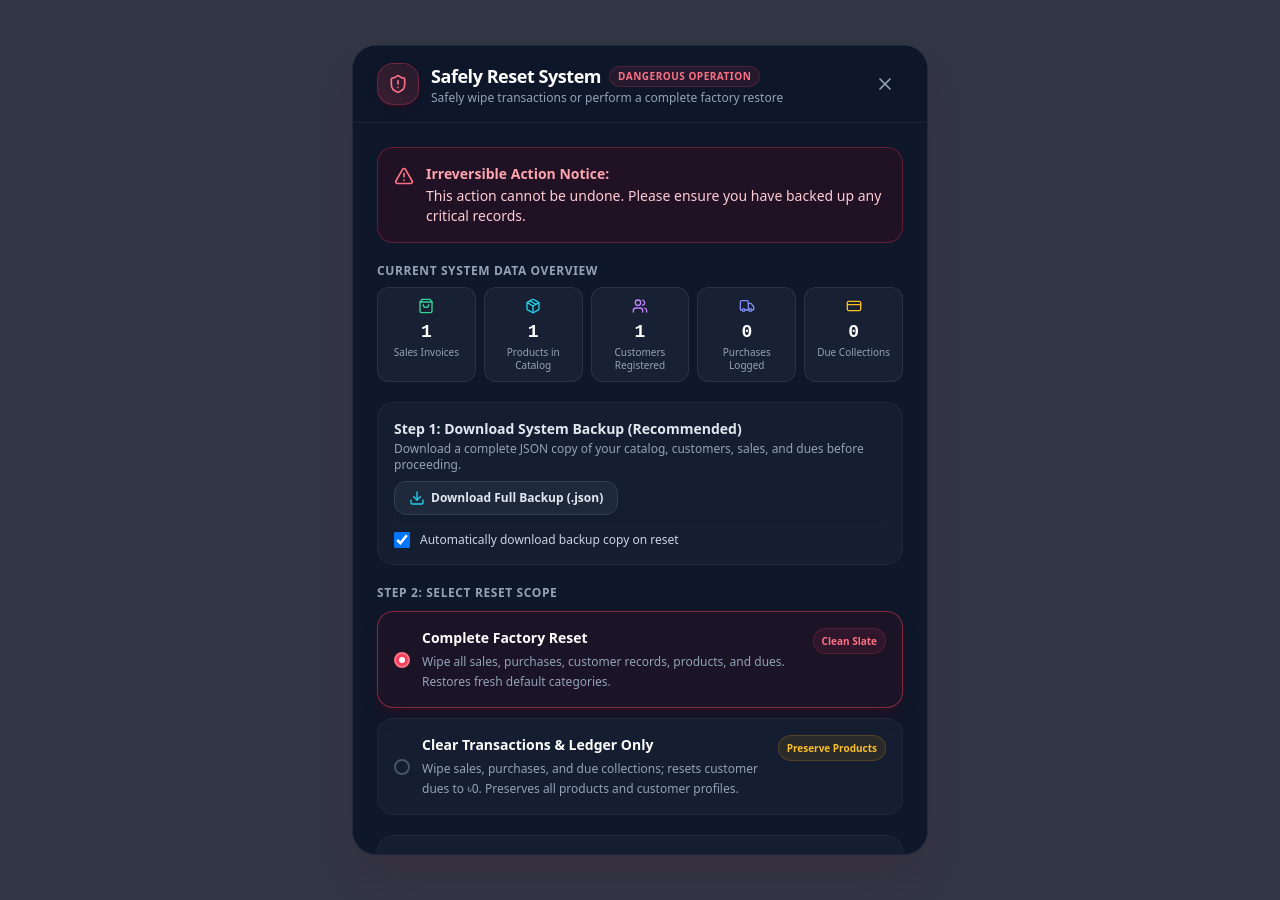
Test: System Reset UI & Safety Modal › displays accurate system counts and handles backup download in SystemResetModal
expect the 1st text "1" is shown: met, box [421,322,432,342]
// Click Download Backup button
Click the button "Download Full Backup (.json)". click: (506, 498)
box: [394,481,618,515]
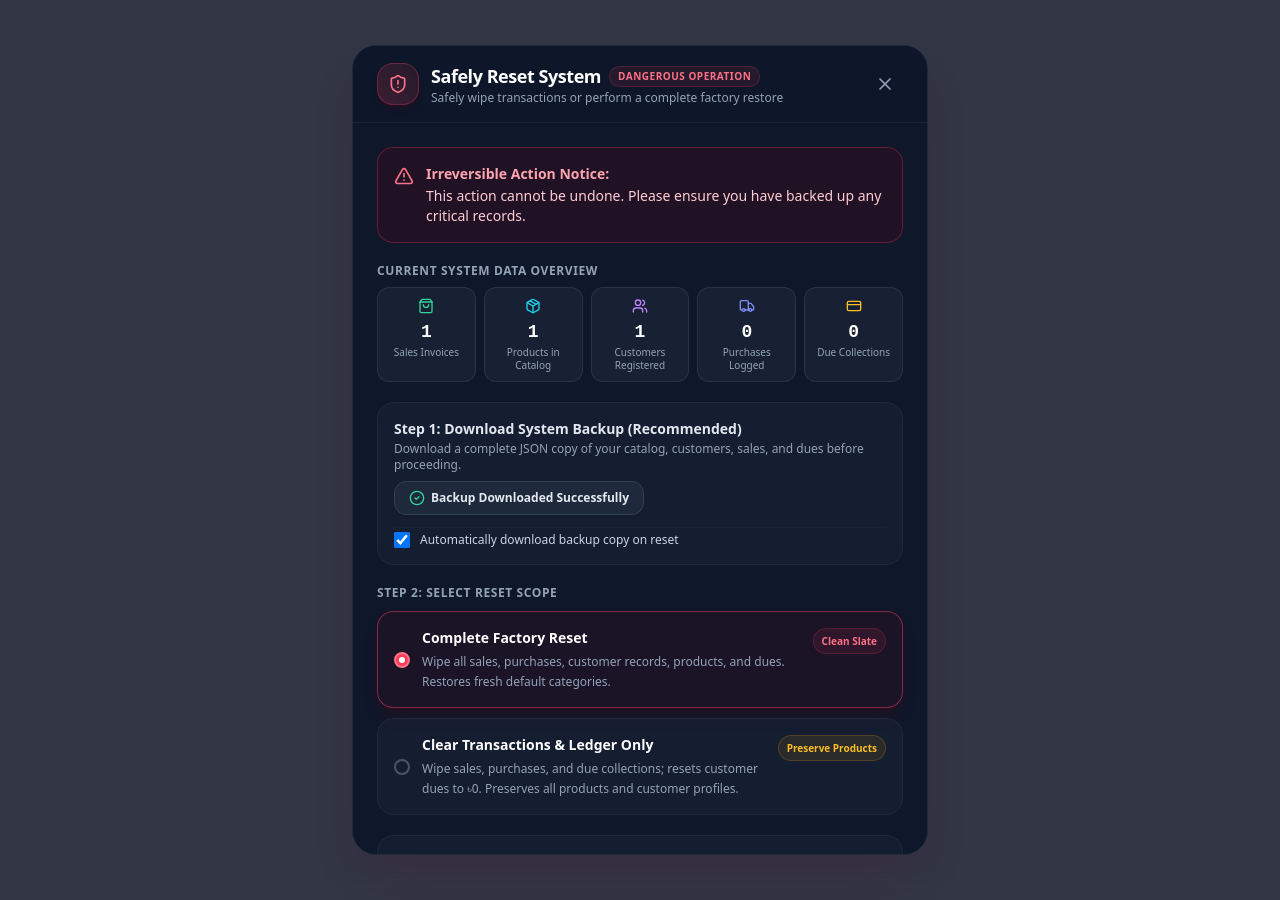
expect the text "Backup Downloaded Successfully" is shown: met, box [431,490,629,506]
